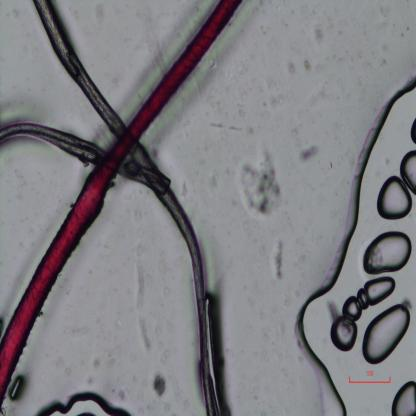Air bubble: (295, 76, 416, 415), (330, 275, 395, 352), (362, 304, 410, 364), (29, 389, 130, 416), (363, 231, 412, 275), (376, 175, 412, 219), (389, 378, 416, 416), (399, 149, 416, 195), (9, 376, 23, 402), (410, 118, 416, 145)
Background material: (240, 145, 283, 219), (136, 316, 154, 356), (298, 140, 322, 163), (273, 240, 285, 278), (151, 374, 167, 399)
Hair textile: (0, 0, 242, 403)
Microfibre: (32, 0, 220, 416), (0, 122, 171, 195)
